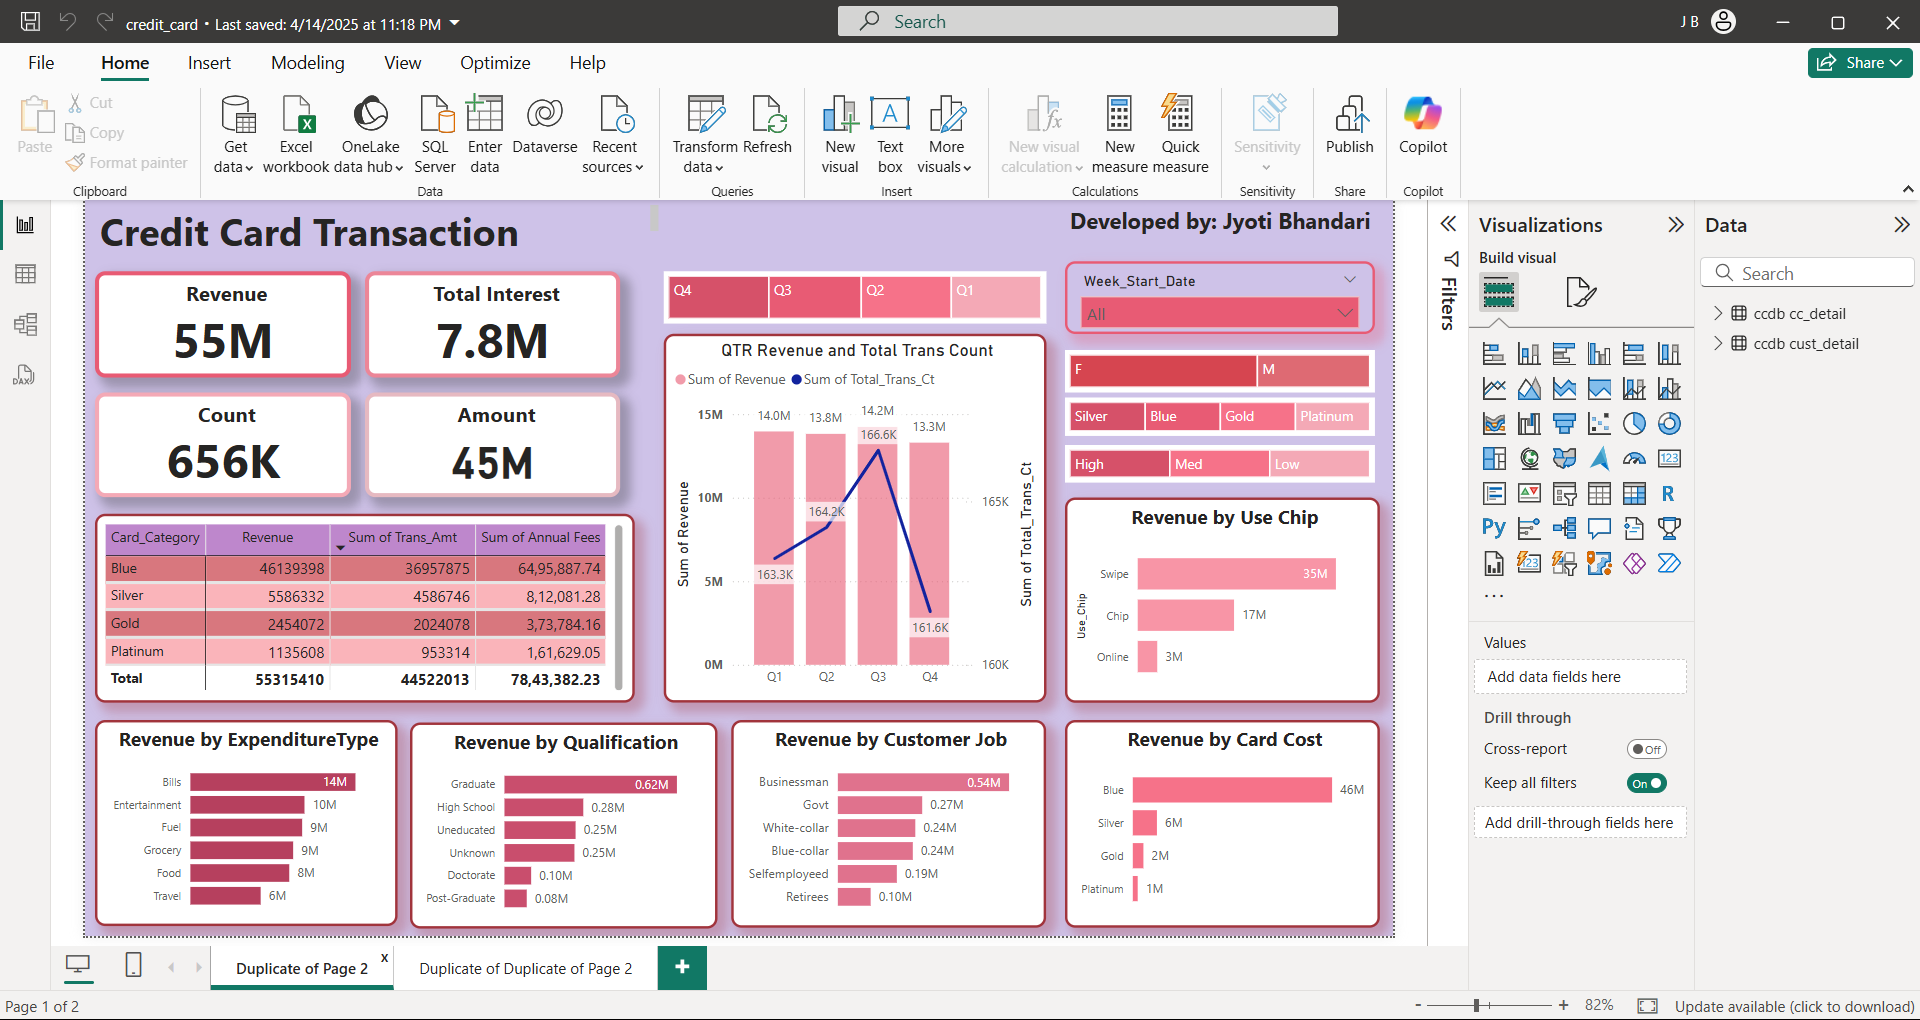

What the dashboard file says about the page in this screenshot:
{"tool":"powerbi","page":{"name":"Credit Card Transaction ","canvas":[1280,720],"ordinal":0},"visuals":[{"type":"textbox","box":[53.8,0,682.3,69.7],"z":0},{"type":"lineStackedColumnComboChart","title":"QTR Revenue and Total Trans Count","fields":{"Category":["ccdb cc_detail.Qtr"],"Y":["Sum(ccdb cc_detail.Revenue)"],"Y2":["Sum(ccdb cc_detail.Total_Trans_Ct)"]},"box":[566.2,130.8,374.2,360.7],"z":1000},{"type":"barChart","title":" Revenue by ExpenditureType","fields":{"Category":["ccdb cc_detail.Exp_Type"],"Y":["Sum(ccdb cc_detail.Revenue)"]},"box":[9.8,508.7,295.9,201.8],"z":2000},{"type":"barChart","title":" Revenue by Qualification","fields":{"Y":["Sum(ccdb cc_detail.Revenue)"],"Category":["ccdb cust_detail.Education_Level"]},"box":[317.9,511.1,300.8,201.8],"z":3000},{"type":"barChart","title":" Revenue by Customer Job","fields":{"Y":["Sum(ccdb cc_detail.Revenue)"],"Category":["ccdb cust_detail.Customer_Job"]},"box":[632.2,508.7,308.2,203],"z":4000},{"type":"barChart","title":" Revenue by Card Cost","fields":{"Y":["Sum(ccdb cc_detail.Revenue)"],"Category":["ccdb cc_detail.Card_Category"]},"box":[958.7,508.7,308.2,203],"z":5000},{"type":"barChart","title":" Revenue by Use Chip","fields":{"Y":["Sum(ccdb cc_detail.Revenue)"],"Category":["ccdb cc_detail.Use_Chip"]},"box":[958.7,291,308.2,200.5],"z":6000},{"type":"pivotTable","fields":{"Rows":["ccdb cc_detail.Card_Category"],"Values":["Sum(ccdb cc_detail.Revenue)","Sum(ccdb cc_detail.Total_Trans_Amt)","Sum(ccdb cc_detail.Interest_Earned)"]},"box":[9.8,306.9,528.3,184.6],"z":7000},{"type":"card","title":"Revenue","fields":{"Values":["Sum(ccdb cc_detail.Revenue)"]},"box":[9.8,69.7,250,103.9],"z":8000},{"type":"card","title":"Total Interest","fields":{"Values":["Sum(ccdb cc_detail.Interest_Earned)"]},"box":[273.9,69.7,249.5,103.9],"z":9000},{"type":"card","title":"Count","fields":{"Values":["Sum(ccdb cc_detail.Total_Trans_Ct)"]},"box":[9.8,188.3,250,102.7],"z":10000},{"type":"slicer","fields":{"Values":["ccdb cc_detail.Week_Start_Date"]},"box":[958.7,59.9,303.3,70.9],"z":11000},{"type":"card","title":"Amount","fields":{"Values":["Sum(ccdb cc_detail.Total_Trans_Amt)"]},"box":[273.9,188.3,249.5,102.7],"z":12000},{"type":"treemap","fields":{"Values":["Avg(ccdb cc_detail.Client_Num)"],"Group":["ccdb cc_detail.Qtr"]},"box":[566.2,69.7,374.2,51.4],"z":13000},{"type":"treemap","fields":{"Group":["ccdb cust_detail.Gender"],"Values":["CountNonNull(ccdb cc_detail.Client_Num)"]},"box":[958.7,146.7,303.3,41.6],"z":14000},{"type":"treemap","fields":{"Values":["Avg(ccdb cc_detail.Client_Num)"],"Group":["ccdb cc_detail.Card_Category"]},"box":[958.7,193.2,303.3,37.9],"z":15000},{"type":"treemap","fields":{"Values":["Avg(ccdb cc_detail.Client_Num)"],"Group":["ccdb cust_detail.IncomeGroup"]},"box":[958.7,239.7,303.3,36.7],"z":16000},{"type":"textbox","box":[958.7,4.9,287.4,35.5],"z":17000},{"type":"actionButton","box":[1237.5,0,42.8,40.4],"z":18000}]}

Visuals, with their boxes on the page's 1280x720 design canvas (x1, y1, x2, y2). These are canvas units, not pixel positions in the 1920x1020 screenshot, which may show the page scaled, cropped or inside an application window:
textbox: Rect(54, 0, 736, 70)
"QTR Revenue and Total Trans Count" lineStackedColumnComboChart: Rect(566, 131, 940, 492)
" Revenue by ExpenditureType" barChart: Rect(10, 509, 306, 710)
" Revenue by Qualification" barChart: Rect(318, 511, 619, 713)
" Revenue by Customer Job" barChart: Rect(632, 509, 940, 712)
" Revenue by Card Cost" barChart: Rect(959, 509, 1267, 712)
" Revenue by Use Chip" barChart: Rect(959, 291, 1267, 492)
pivotTable - ccdb cc_detail.Card_Category x Sum(ccdb cc_detail.Revenue): Rect(10, 307, 538, 492)
"Revenue" card: Rect(10, 70, 260, 174)
"Total Interest" card: Rect(274, 70, 523, 174)
"Count" card: Rect(10, 188, 260, 291)
slicer - ccdb cc_detail.Week_Start_Date: Rect(959, 60, 1262, 131)
"Amount" card: Rect(274, 188, 523, 291)
treemap - Avg(ccdb cc_detail.Client_Num) x ccdb cc_detail.Qtr: Rect(566, 70, 940, 121)
treemap - ccdb cust_detail.Gender x CountNonNull(ccdb cc_detail.Client_Num): Rect(959, 147, 1262, 188)
treemap - Avg(ccdb cc_detail.Client_Num) x ccdb cc_detail.Card_Category: Rect(959, 193, 1262, 231)
treemap - Avg(ccdb cc_detail.Client_Num) x ccdb cust_detail.IncomeGroup: Rect(959, 240, 1262, 276)
textbox: Rect(959, 5, 1246, 40)
actionButton: Rect(1238, 0, 1280, 40)
